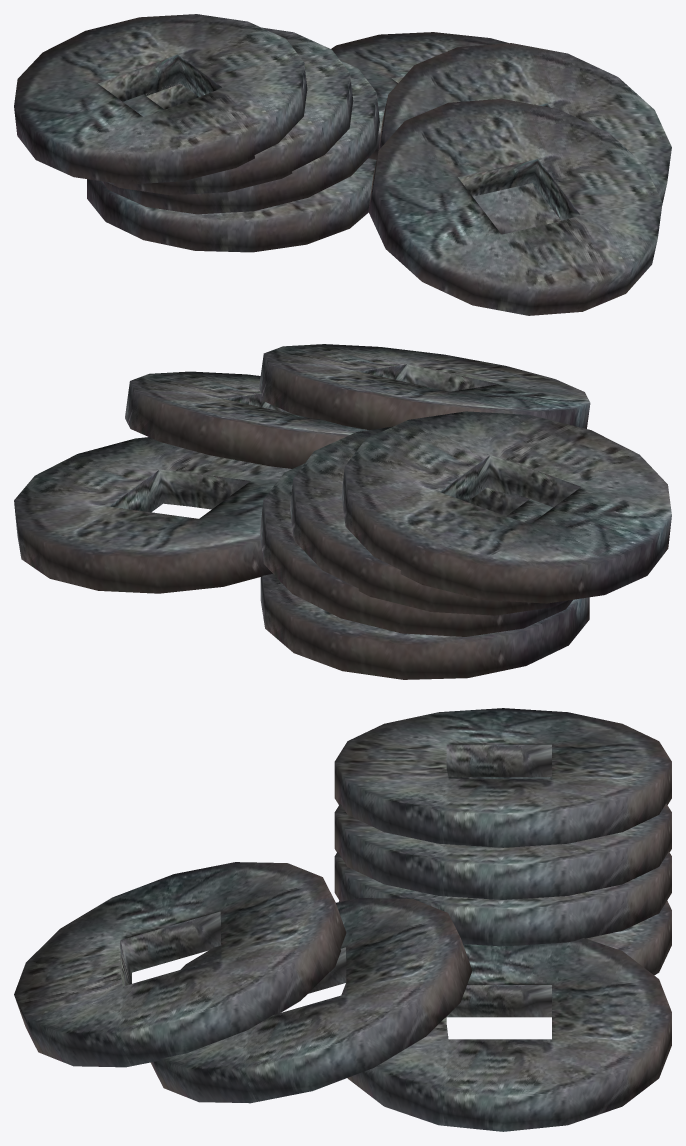
File: Moedas.fbx
3 renders of one model, top to bottom at view 1: azimuth 30°, elevation 25°; view 2: azimuth 150°, elevation 25°; view 3: azimuth 270°, elevation 25°, orthographic. The views are drawn at different scales.
Visible parts, largest first — view 1: Circle.001; view 2: Circle.001; view 3: Circle.001.
Boxes of the visible parts, x1,y1,x2,y2 form: Circle.001: [14, 14, 671, 315]; Circle.001: [14, 344, 671, 679]; Circle.001: [14, 708, 671, 1131].
Bounding box in the file's own units: 19.08 × 4.73 × 17.35.
